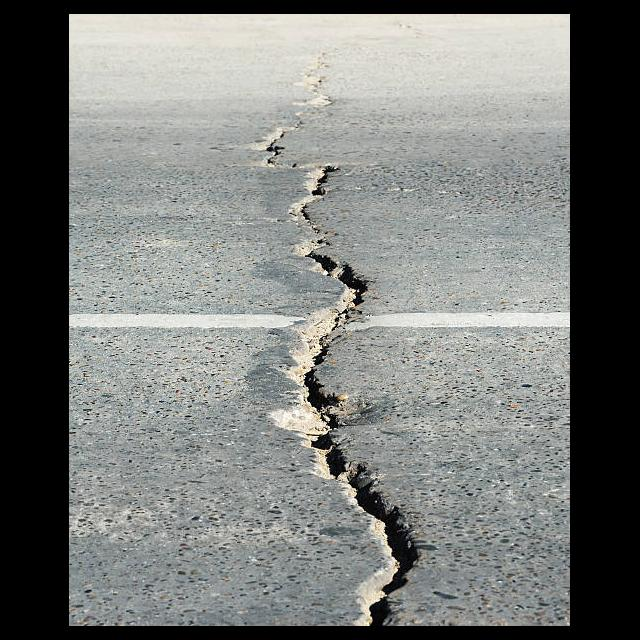lubang_kecil: (231, 42, 454, 626)
